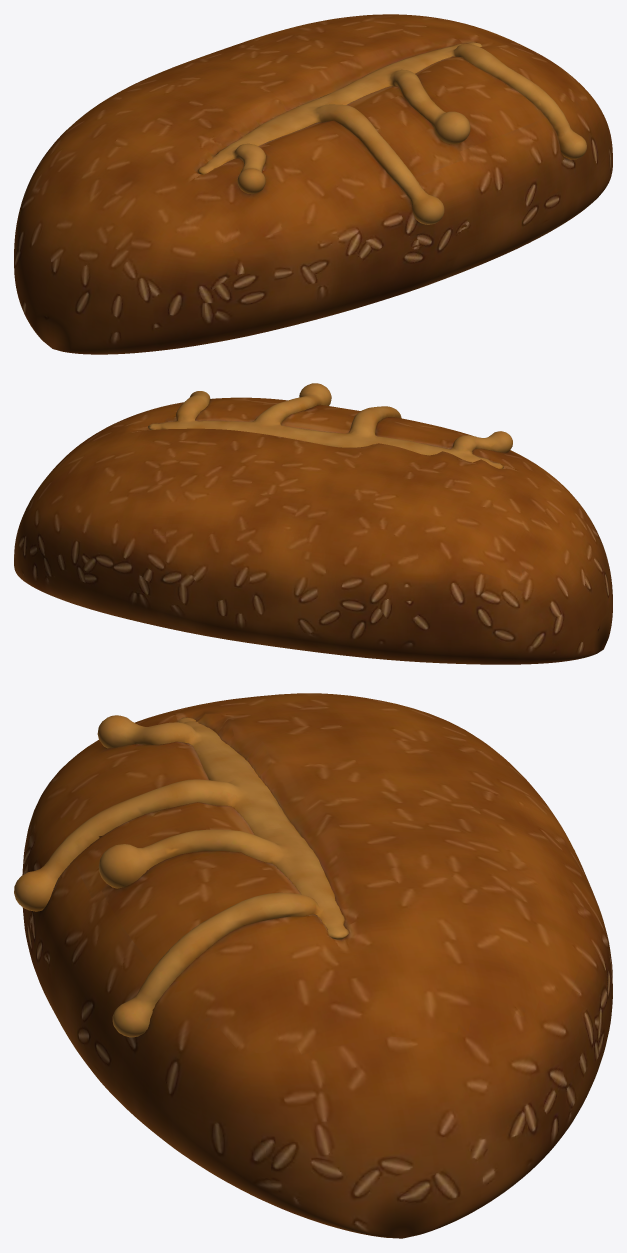
File: rye--honey-jam.glb
The picture shows the model from 3 angles, top to bottom: view 1: azimuth 30°, elevation 25°; view 2: azimuth 150°, elevation 25°; view 3: azimuth 270°, elevation 25°; orthographic projection. The views are drawn at different scales.
Visible parts, largest first — view 1: rye_honey-jam; view 2: rye_honey-jam; view 3: rye_honey-jam.
Boxes of the visible parts, x1,y1,x2,y2 form: rye_honey-jam: [14, 14, 612, 354]; rye_honey-jam: [14, 383, 612, 664]; rye_honey-jam: [14, 693, 612, 1238].
Size of the model in its own units: 0.9927 by 0.2991 by 0.6375.
Materials: 1 (1 with a texture image).
